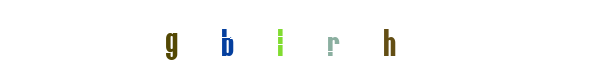1: (233, 0, 313, 80)
B: (233, 0, 313, 80)
G: (186, 0, 266, 80)
H: (263, 0, 343, 80)
R: (256, 0, 336, 80)
